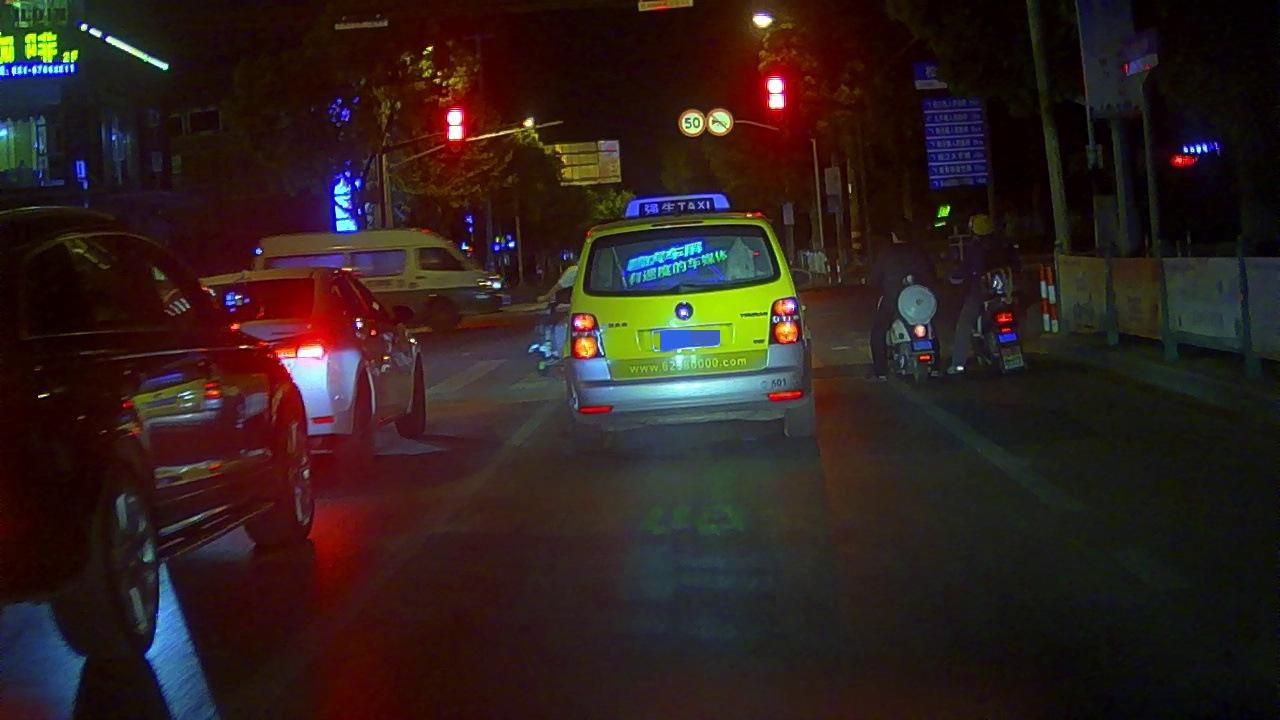traffic_light: (764, 74, 787, 117), (445, 106, 465, 145)
